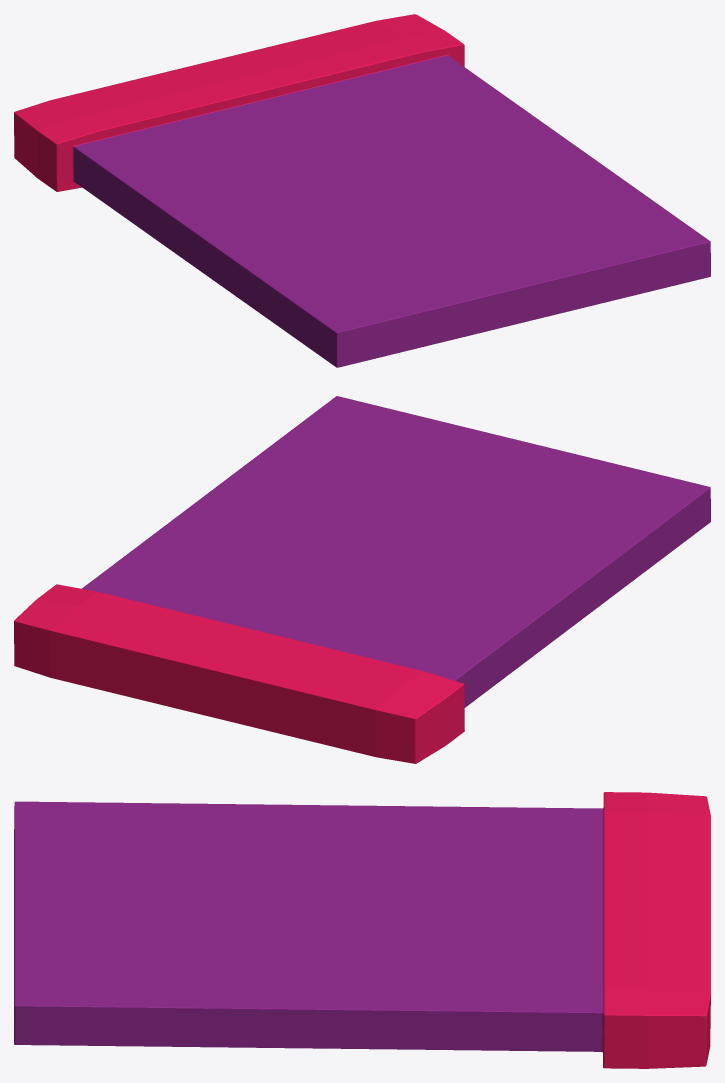
File: SM_Table1.fbx
3 views of the same model, one above another, from view 1: azimuth 30°, elevation 25°; view 2: azimuth 150°, elevation 25°; view 3: azimuth 270°, elevation 25° (orthographic). The views are drawn at different scales.
Visible parts, largest first — view 1: SM_Table1; view 2: SM_Table1; view 3: SM_Table1.
Boxes of the visible parts, x1,y1,x2,y2 form: SM_Table1: [14, 14, 710, 367]; SM_Table1: [14, 396, 710, 763]; SM_Table1: [14, 792, 710, 1068].
Size of the model in its own units: 17.52 by 23.14 by 2.21.
1 material, 1 textured.
